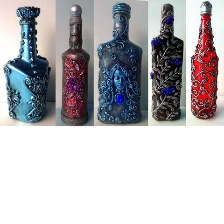bottle: (96, 0, 147, 126), (2, 4, 54, 124), (146, 0, 185, 123), (57, 2, 94, 128), (187, 0, 223, 122)
